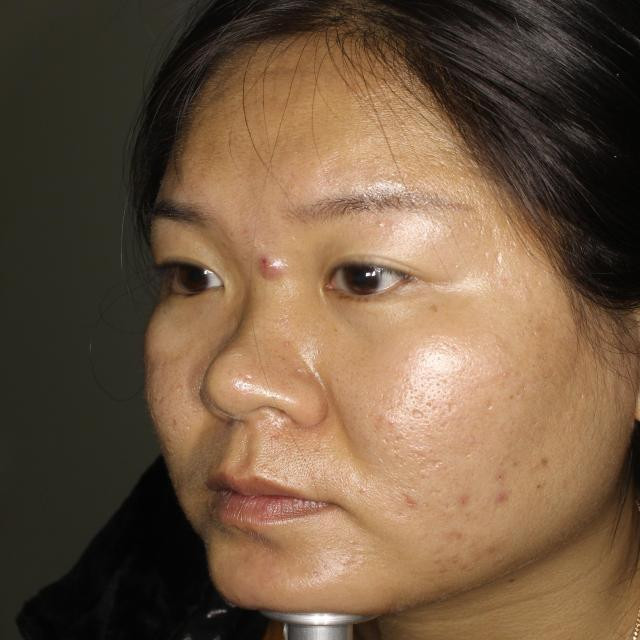acne: (253, 253, 286, 287), (480, 537, 507, 566), (395, 488, 421, 515), (489, 489, 520, 509), (447, 485, 469, 512), (438, 520, 464, 542), (497, 459, 512, 489)
